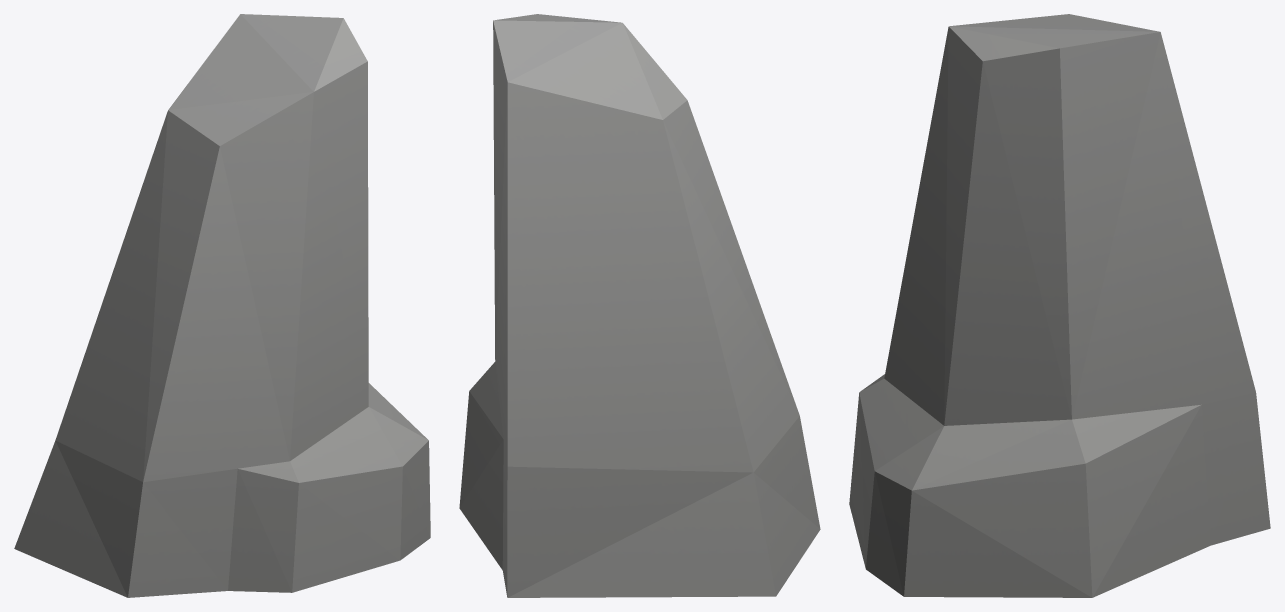
File: Cavern_RockPointy-01.fbx
The picture shows the model from 3 angles, left to right: view 1: azimuth 30°, elevation 25°; view 2: azimuth 150°, elevation 25°; view 3: azimuth 270°, elevation 25°; orthographic projection. The views are drawn at different scales.
Visible parts, largest first — view 1: Cavern_RockPointy-01; view 2: Cavern_RockPointy-01; view 3: Cavern_RockPointy-01.
Boxes of the visible parts, x1=… form: Cavern_RockPointy-01: x1=14, y1=14, x2=430, y2=597; Cavern_RockPointy-01: x1=459, y1=14, x2=820, y2=597; Cavern_RockPointy-01: x1=849, y1=14, x2=1270, y2=597.
Bounding box in the file's own units: 353 × 494 × 350.
Materials: 1 (1 with a texture image).
